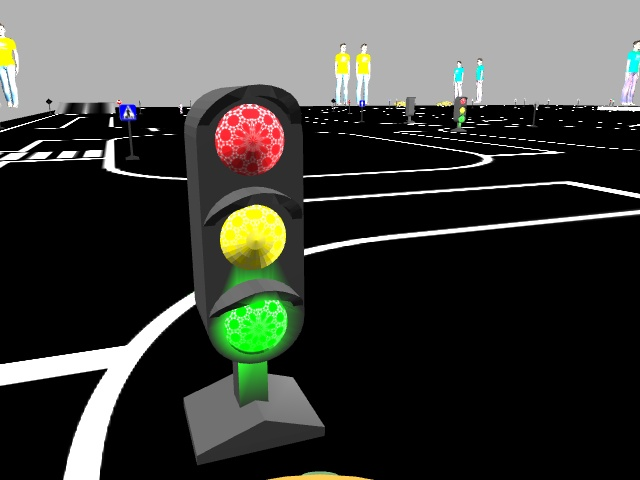Crosswalk: (119, 104, 135, 120)
TrafficLight: (189, 81, 302, 362)
